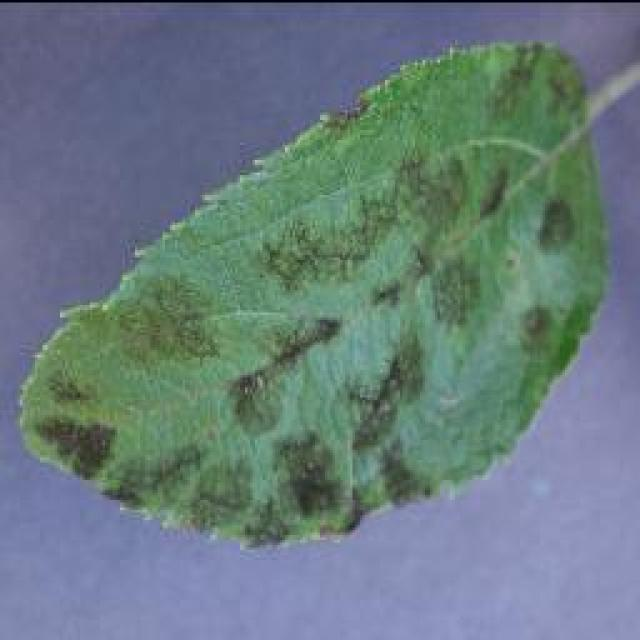apple scab disease: (15, 35, 613, 550)
